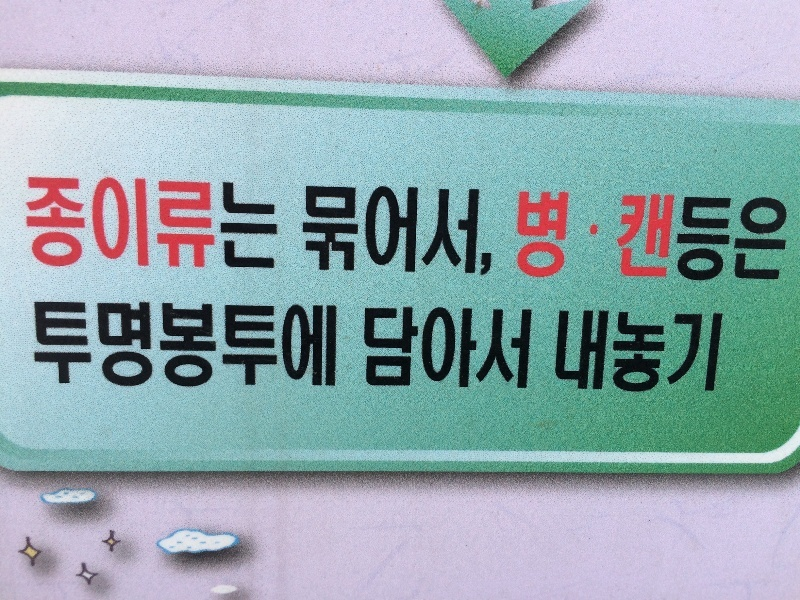text: (33, 175, 48, 270), (49, 175, 64, 270), (65, 175, 80, 270), (81, 175, 96, 270), (97, 175, 112, 270), (113, 175, 128, 270), (129, 175, 144, 270), (145, 175, 160, 270), (161, 175, 176, 270), (177, 175, 192, 270), (193, 175, 208, 270), (209, 175, 224, 270), (225, 175, 240, 270), (241, 175, 256, 270), (257, 175, 272, 270), (305, 184, 320, 278), (321, 184, 336, 278), (337, 184, 352, 278), (353, 184, 368, 278), (369, 184, 384, 278), (385, 184, 400, 278), (401, 184, 416, 278), (417, 184, 432, 278), (433, 184, 448, 278), (449, 184, 464, 278), (465, 184, 480, 278), (625, 193, 640, 286), (641, 193, 656, 286), (657, 193, 672, 286), (673, 193, 688, 286), (689, 193, 704, 286), (705, 193, 720, 286), (721, 193, 736, 286), (737, 193, 752, 286), (753, 193, 768, 286), (769, 193, 784, 286), (33, 299, 48, 391), (49, 299, 64, 391), (65, 299, 80, 391), (81, 299, 96, 391), (97, 299, 112, 391), (113, 299, 128, 391), (129, 299, 144, 391), (145, 299, 160, 391), (161, 299, 176, 391), (177, 299, 192, 391), (193, 299, 208, 391), (209, 299, 224, 391), (225, 299, 240, 391), (241, 299, 256, 391), (257, 299, 272, 391), (273, 299, 288, 391), (289, 299, 304, 391), (305, 299, 320, 391), (321, 299, 336, 391), (529, 189, 544, 280), (545, 189, 560, 280), (561, 307, 576, 395), (577, 307, 592, 395), (593, 307, 608, 395), (609, 307, 624, 395), (625, 307, 640, 395), (641, 307, 656, 395), (657, 307, 672, 395), (673, 307, 688, 395), (689, 307, 704, 395), (705, 307, 720, 395), (369, 305, 384, 392), (385, 305, 400, 392), (401, 305, 416, 392), (417, 305, 432, 392), (433, 305, 448, 392), (449, 305, 464, 392), (465, 305, 480, 392), (481, 305, 496, 392), (497, 305, 512, 392), (513, 305, 528, 392), (481, 184, 494, 278), (517, 189, 528, 280), (561, 189, 571, 280), (25, 175, 32, 270), (785, 193, 792, 286), (721, 307, 727, 395), (273, 175, 278, 270), (619, 193, 624, 286), (364, 305, 368, 392), (529, 305, 533, 392), (557, 307, 560, 395), (337, 299, 338, 391)
